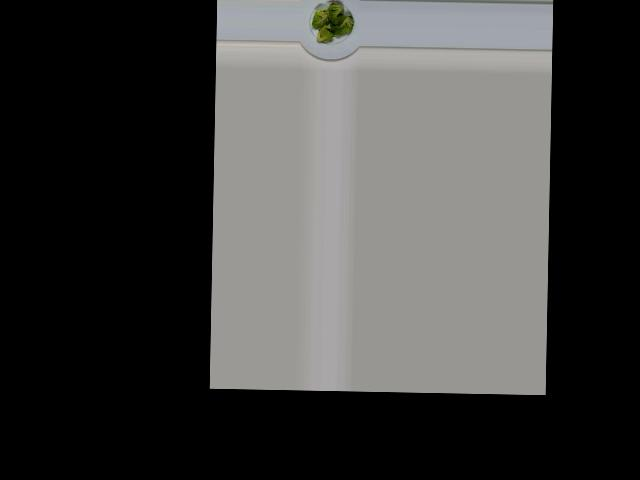lettuce: (312, 0, 358, 44)
